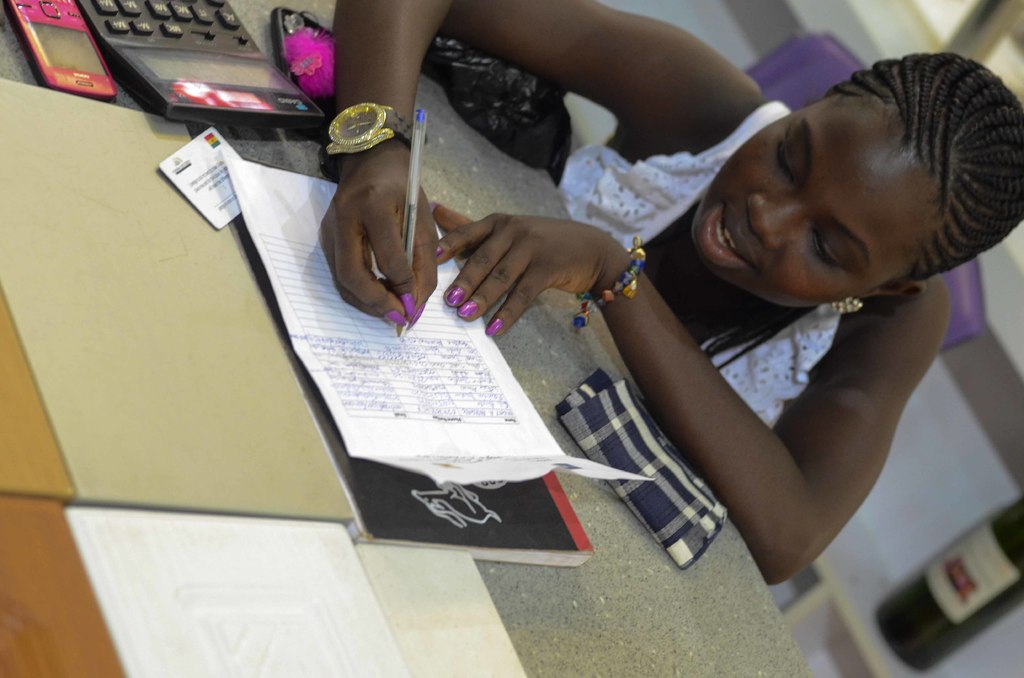Human_hand: (430, 204, 611, 340), (320, 154, 439, 331)
